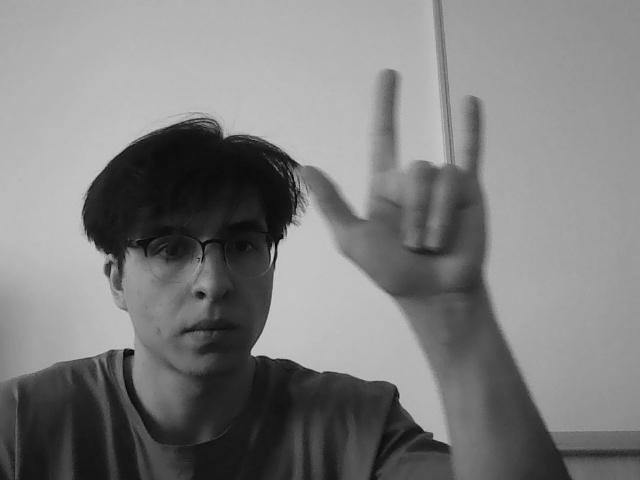I_Love_You: (295, 71, 505, 297)
